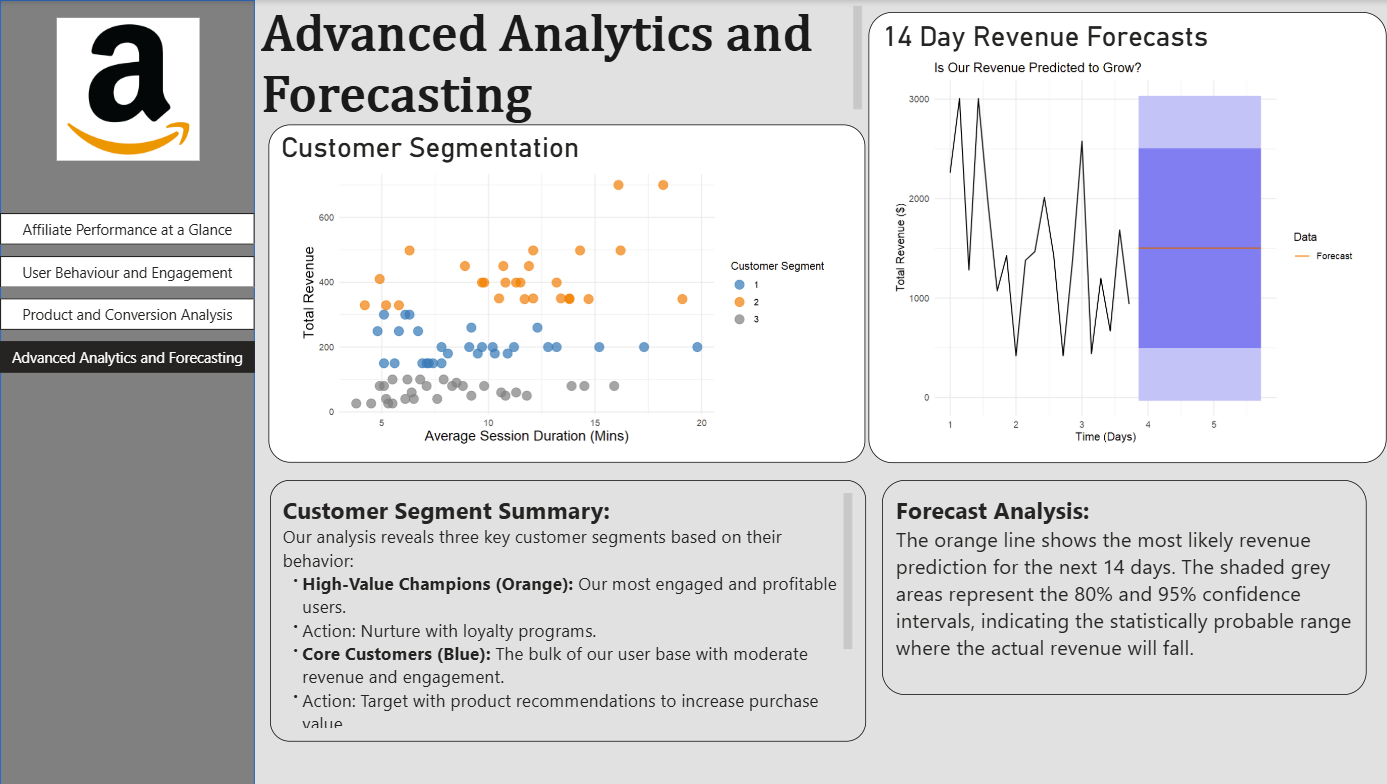

The dashboard page shown, as its layout file describes it:
{"tool":"powerbi","page":{"name":"Advanced Analytics and Forecasting","canvas":[1280,720],"ordinal":3},"visuals":[{"type":"textbox","box":[101.4,0,538.6,121.4],"z":0},{"type":"image","box":[10,11.7,91.7,86.7],"z":1000},{"type":"scriptVisual","title":"14 Day Revenue Forecasts","fields":{"Values":["Dates.Date.Variation.Date Hierarchy.Year","Dates.Date.Variation.Date Hierarchy.Quarter","Dates.Date.Variation.Date Hierarchy.Month","Dates.Date.Variation.Date Hierarchy.Day","_Key Measures.Total_Revenue"]},"box":[640,11.7,628.3,535],"z":2000},{"type":"textbox","box":[640,558.6,628.6,148.6],"z":3000},{"type":"textbox","box":[10,495,620,211.7],"z":4000},{"type":"scriptVisual","title":"Customer Segmentation","fields":{"Values":["UserMetrics.AvgSessionDuration","UserMetrics.TotalConversions","UserMetrics.TotalRevenue"]},"box":[10,98.3,620,385],"z":5000}]}

Visuals, with their boxes in screenshot pixels (x1, y1, x2, y2), scaled from the page's 1280x720 canvas onto the 1387x784 screenshot:
textbox: left=110, top=0, right=694, bottom=132
image: left=11, top=13, right=110, bottom=107
"14 Day Revenue Forecasts" scriptVisual: left=694, top=13, right=1374, bottom=595
textbox: left=694, top=608, right=1375, bottom=770
textbox: left=11, top=539, right=683, bottom=770
"Customer Segmentation" scriptVisual: left=11, top=107, right=683, bottom=526
